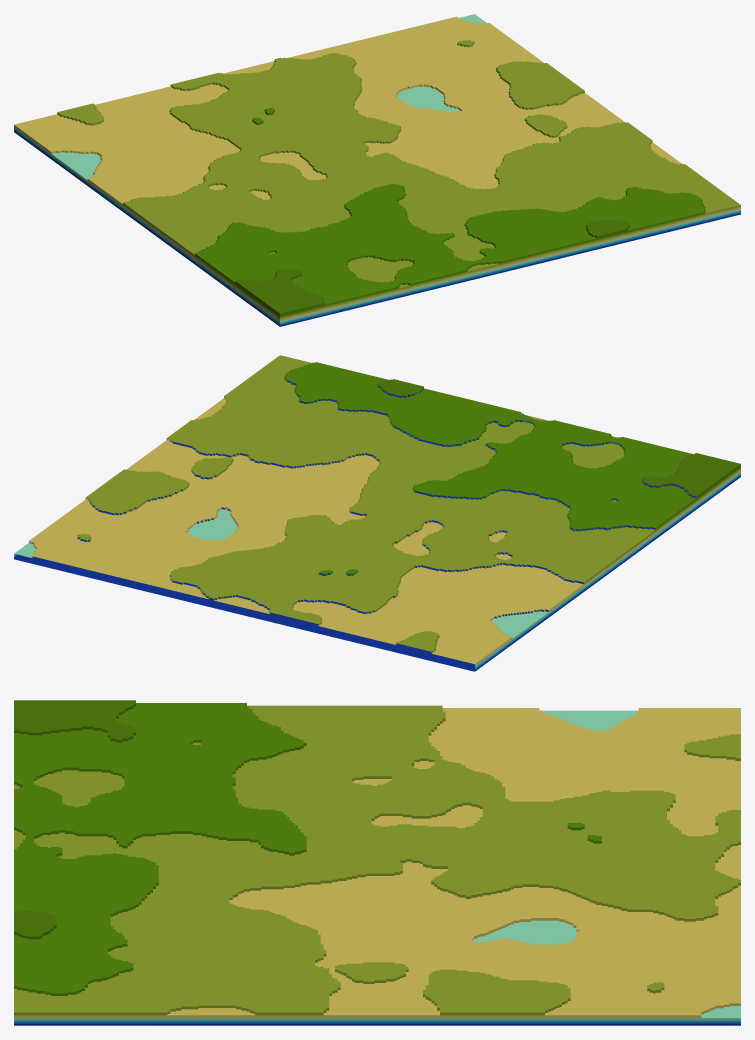
The model's file is terrain.fbx.
The picture shows the model from 3 angles, top to bottom: view 1: azimuth 30°, elevation 25°; view 2: azimuth 150°, elevation 25°; view 3: azimuth 270°, elevation 25°; orthographic projection. The views are drawn at different scales.
Visible parts, largest first — view 1: Terrain; view 2: Terrain; view 3: Terrain.
Boxes of the visible parts, left/top/right/bottom form: Terrain: left=14, top=14, right=740, bottom=326; Terrain: left=14, top=355, right=740, bottom=671; Terrain: left=14, top=700, right=740, bottom=1025.
Size of the model in its own units: 256 by 7 by 256.
Materials: 1 (1 with a texture image).
